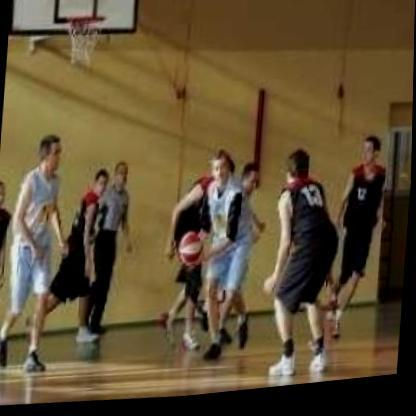basketball: (175, 231, 204, 272)
